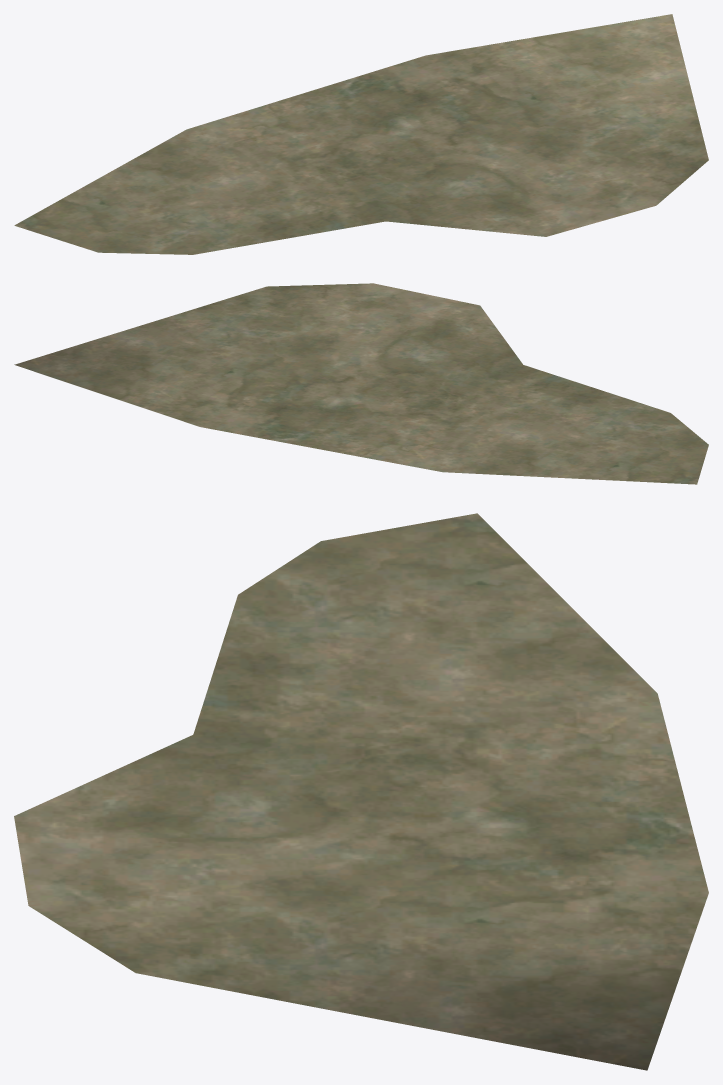
File: OVERHILL_A_01_GROUND_27.fbx
The picture shows the model from 3 angles, top to bottom: view 1: azimuth 30°, elevation 25°; view 2: azimuth 150°, elevation 25°; view 3: azimuth 270°, elevation 25°; orthographic projection. The views are drawn at different scales.
Visible parts, largest first — view 1: OVERHILL_A_01_GROUND_27; view 2: OVERHILL_A_01_GROUND_27; view 3: OVERHILL_A_01_GROUND_27.
Boxes of the visible parts, left/top/right/bottom form: OVERHILL_A_01_GROUND_27: left=14, top=14, right=708, bottom=254; OVERHILL_A_01_GROUND_27: left=14, top=283, right=708, bottom=484; OVERHILL_A_01_GROUND_27: left=14, top=513, right=708, bottom=1070.
Bounding box in the file's own units: 32980 × 35.57 × 17418.
Materials: 1 (1 with a texture image).
